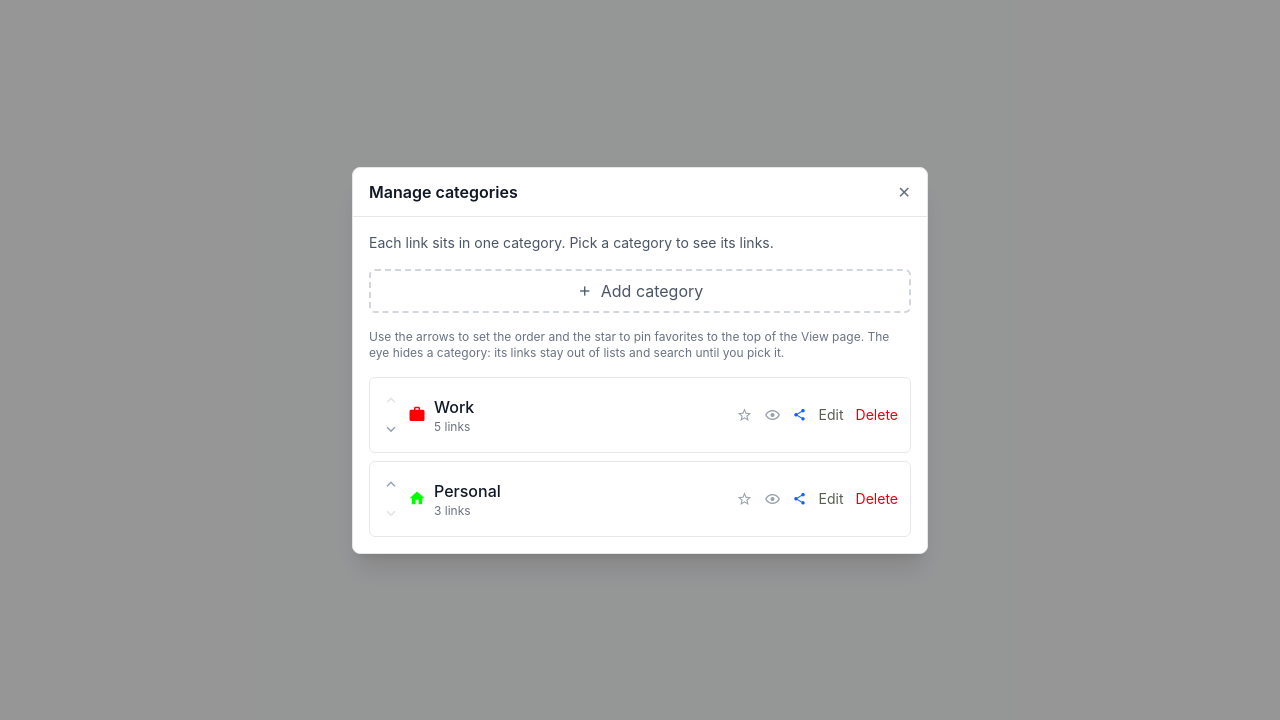
Scenario: CategoryManager › Share link › makes a new link that replaces the old one
Click the button titled "Share" in the row of "Work" at (800, 414), box [793, 404, 807, 424]
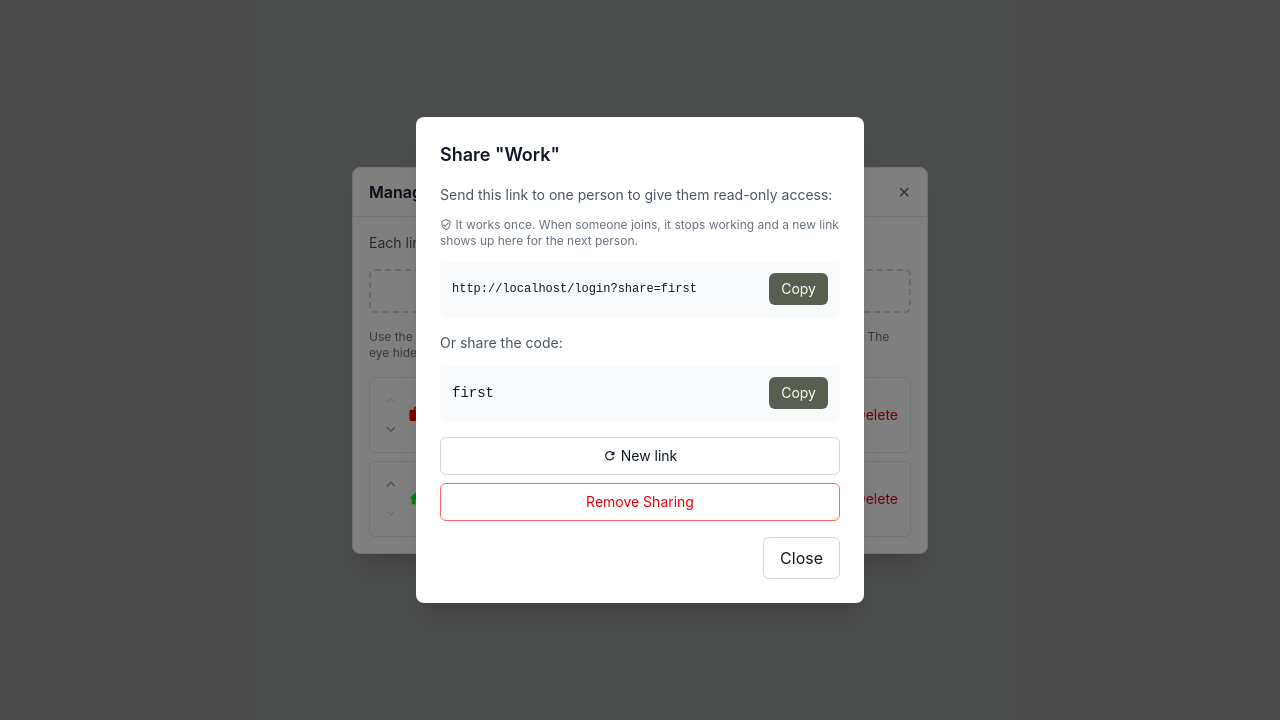
Click the button with test id "reset-share" at (640, 456), box [440, 437, 840, 475]
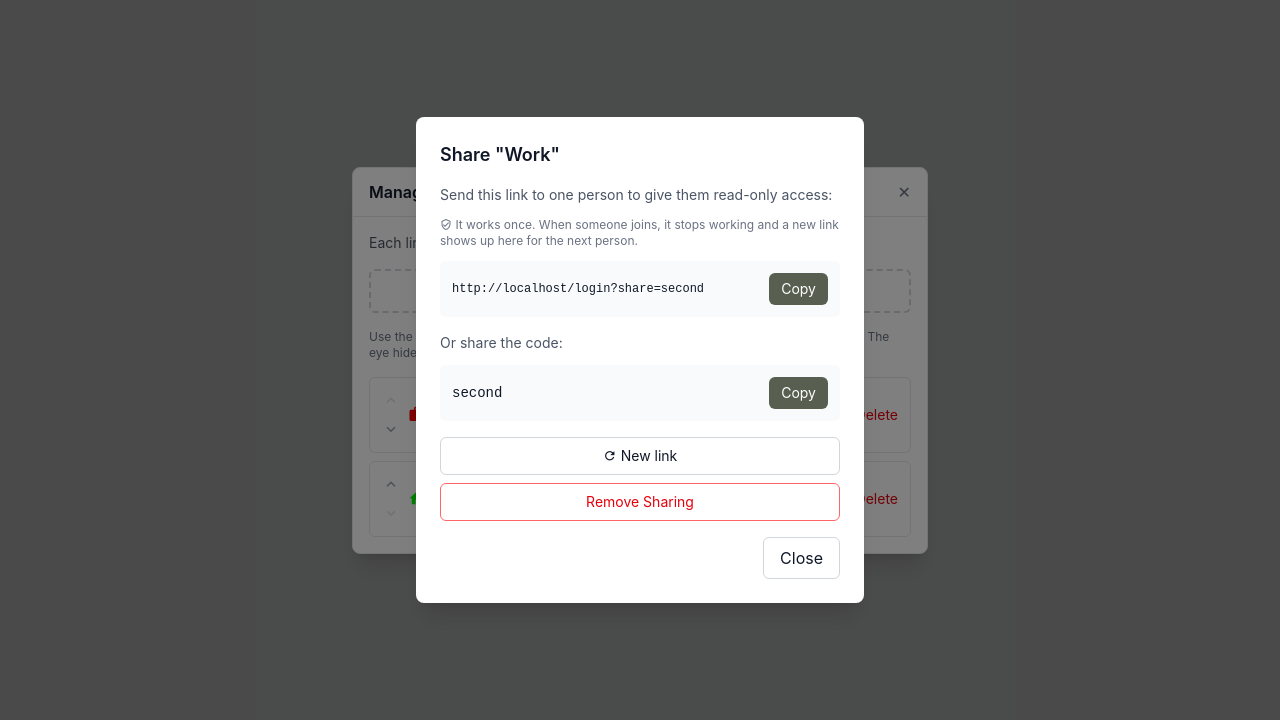
Result: the text "second" is shown at [452, 385, 502, 401]
